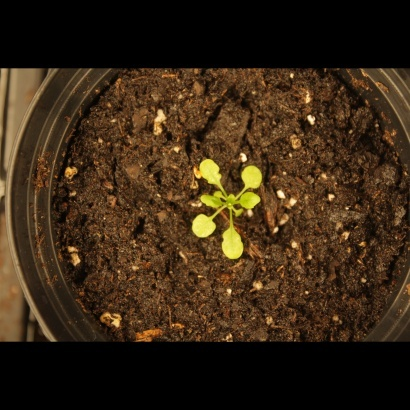leaf: (217, 221, 251, 266), (197, 154, 223, 187), (188, 213, 217, 241), (238, 162, 264, 190), (240, 191, 263, 214), (198, 191, 221, 214)
